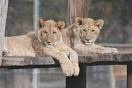lion: (2, 19, 75, 86), (66, 15, 119, 69)
